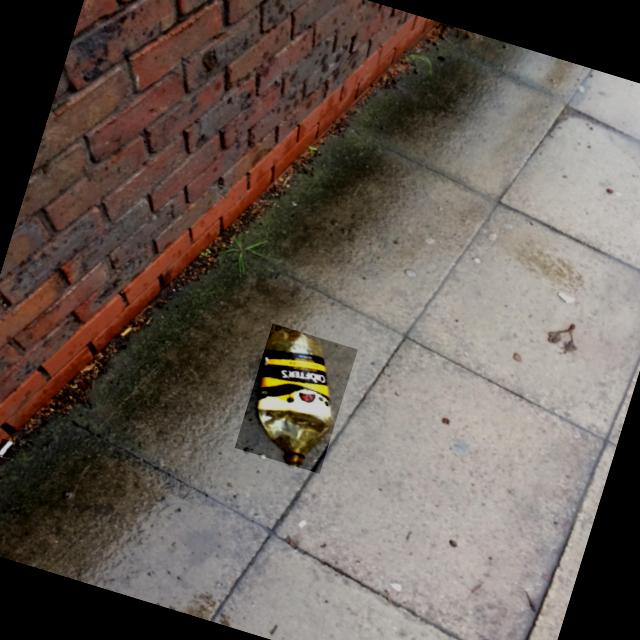Cigarette: (0, 441, 12, 456), (119, 327, 131, 337)
Clear plastic bottle: (257, 330, 334, 467)
